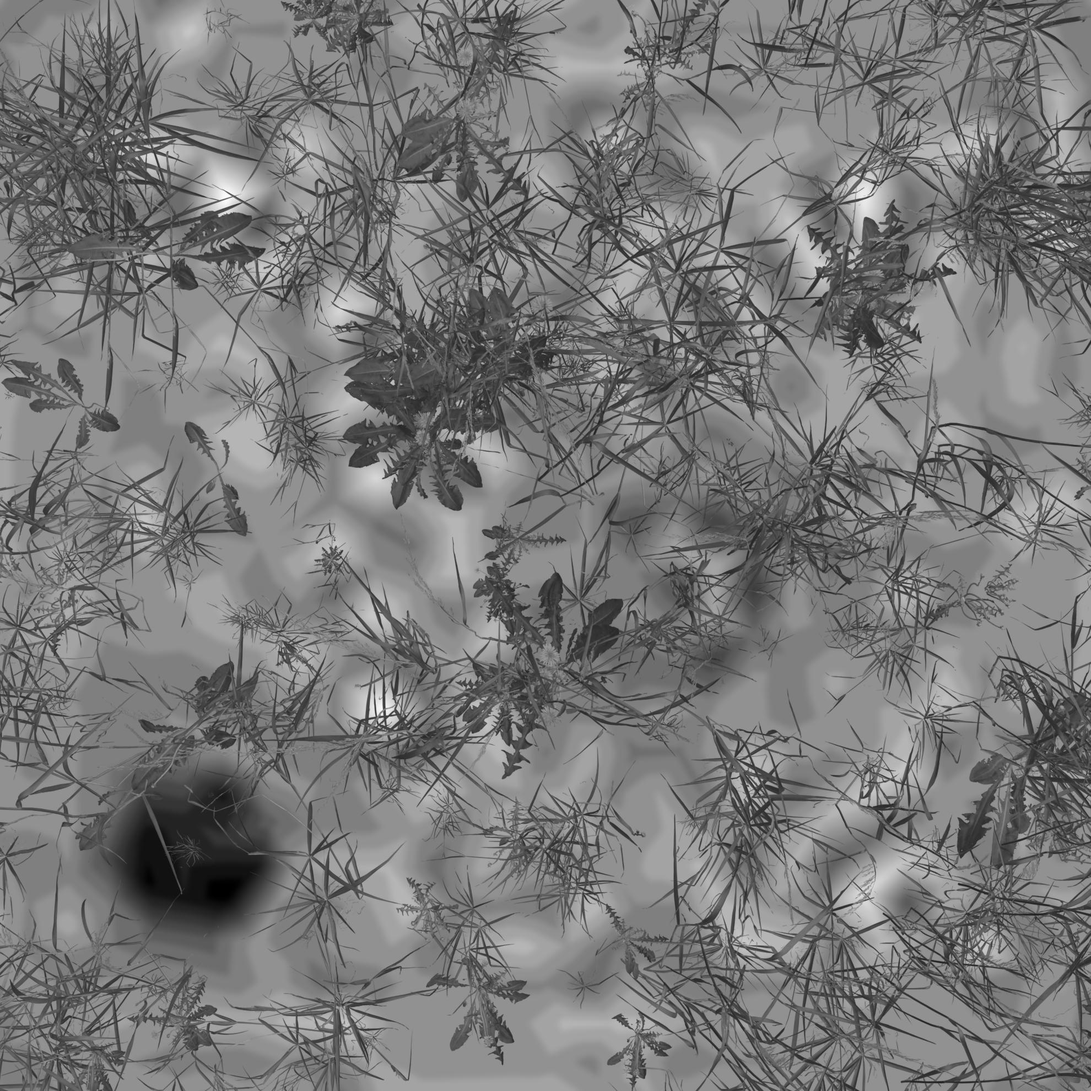landmine: (98, 777, 281, 929)
